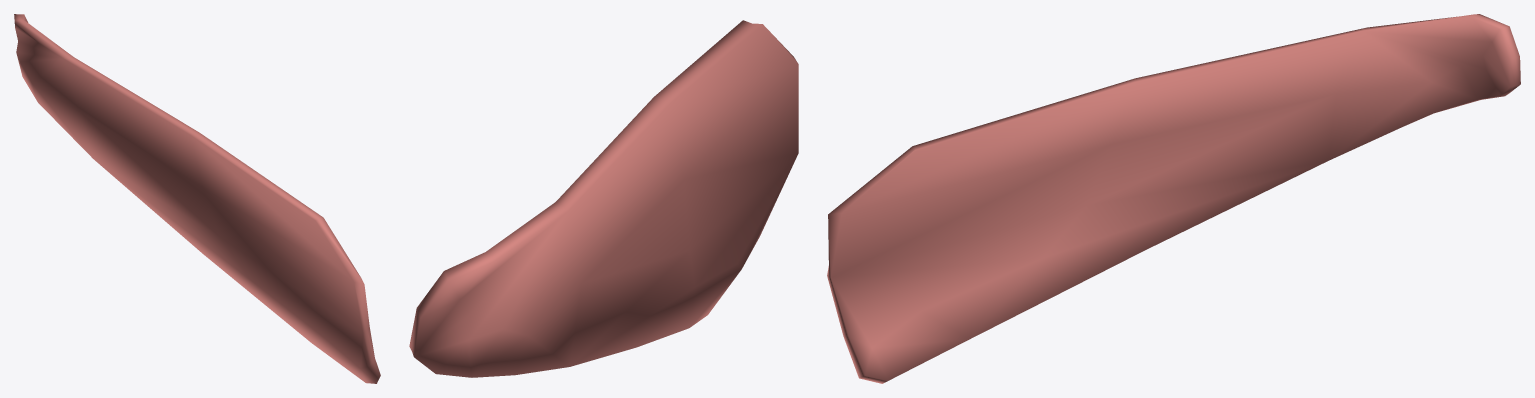
3 renders of one model, left to right at view 1: azimuth 30°, elevation 25°; view 2: azimuth 150°, elevation 25°; view 3: azimuth 270°, elevation 25°, orthographic. The views are drawn at different scales.
Visible parts, largest first — view 1: ZA_403e9298acabb235; view 2: ZA_403e9298acabb235; view 3: ZA_403e9298acabb235.
Boxes of the visible parts, x1,y1,x2,y2 form: ZA_403e9298acabb235: [14, 14, 380, 383]; ZA_403e9298acabb235: [409, 20, 798, 377]; ZA_403e9298acabb235: [827, 14, 1520, 383].
Size of the model in its own units: 0.0139 by 0.0229 by 0.049.
